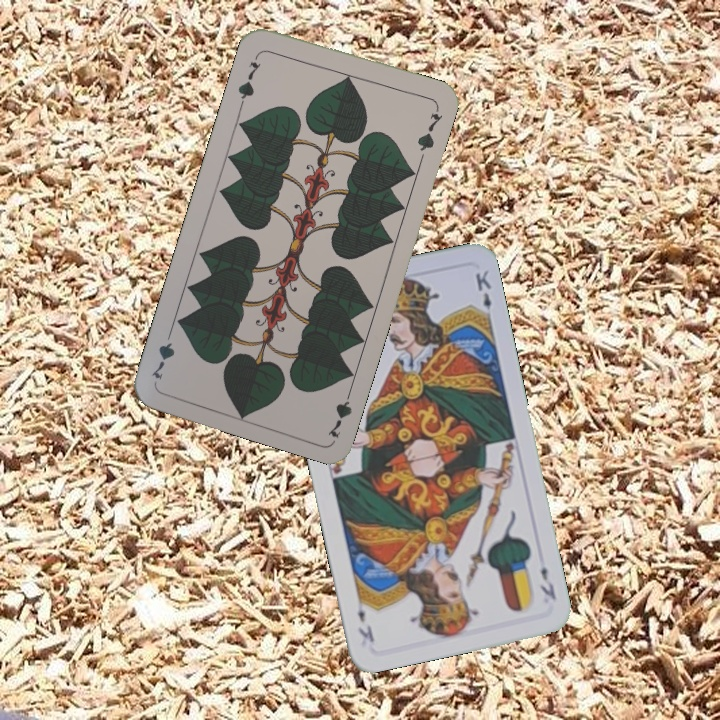EK: (536, 562, 559, 603)
G7: (323, 382, 356, 440), (233, 49, 264, 107)
